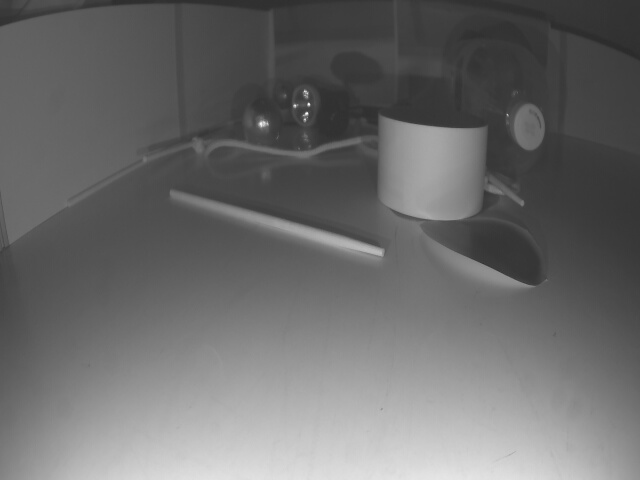Dead: (318, 99, 351, 140)
Live: (242, 98, 281, 150)
